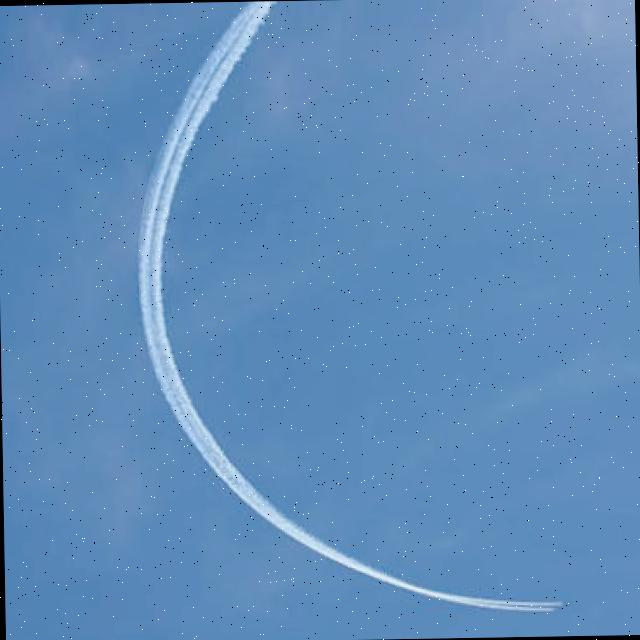Ct: (115, 1, 565, 640)
